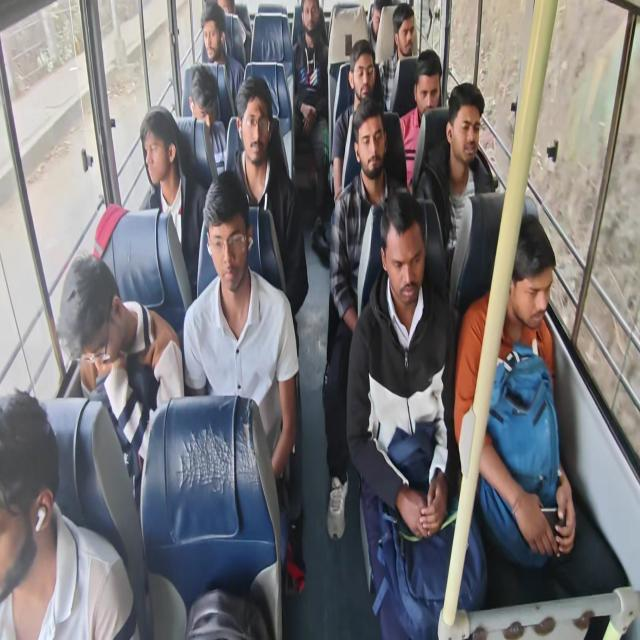person: (0, 397, 60, 589), (59, 280, 127, 372), (512, 227, 555, 339), (380, 200, 424, 304), (206, 196, 250, 294), (446, 92, 484, 174), (237, 98, 273, 172), (142, 127, 176, 196), (354, 110, 386, 174), (188, 75, 221, 135), (412, 58, 444, 116), (349, 52, 377, 110), (200, 10, 228, 66), (296, 2, 326, 35), (400, 17, 420, 59), (369, 4, 391, 41)
